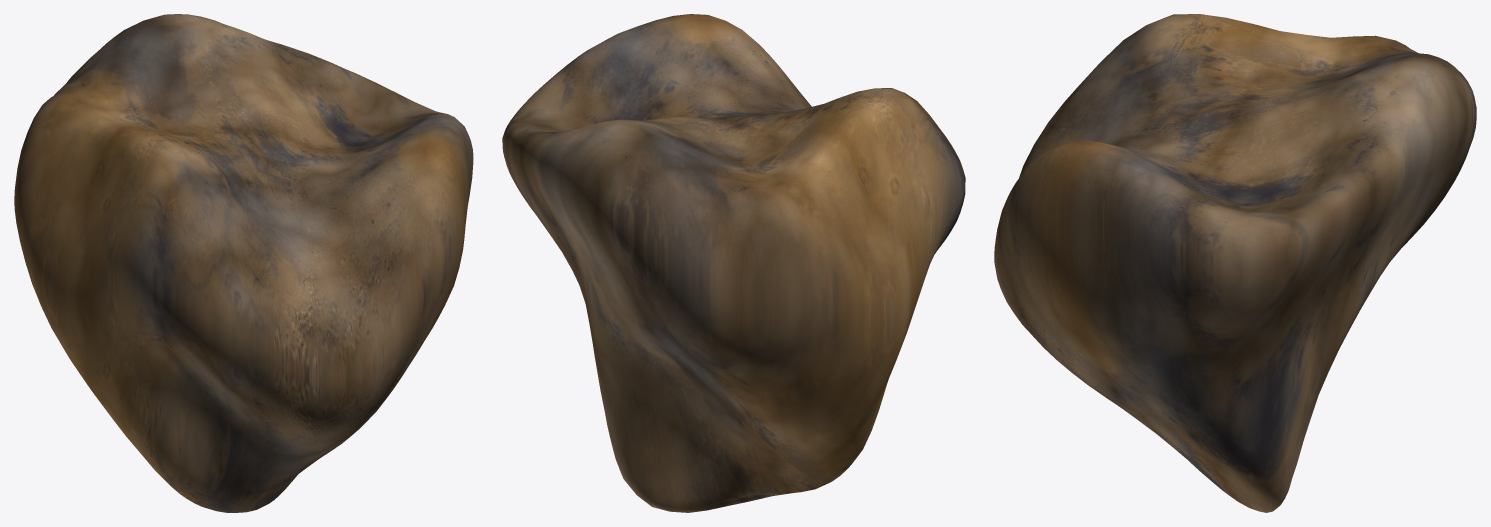
The model's file is Asteroid4.FBX.
3 views of the same model, side by side, from view 1: azimuth 30°, elevation 25°; view 2: azimuth 150°, elevation 25°; view 3: azimuth 270°, elevation 25° (orthographic). The views are drawn at different scales.
Parts seen in each view (by area): view 1: GeoSphere01; view 2: GeoSphere01; view 3: GeoSphere01.
Boxes of the visible parts, x1=… form: GeoSphere01: x1=14, y1=14, x2=473, y2=512; GeoSphere01: x1=502, y1=14, x2=965, y2=512; GeoSphere01: x1=994, y1=14, x2=1476, y2=512.
Bounding box in the file's own units: 109 × 117 × 116.
1 material, 1 textured.
